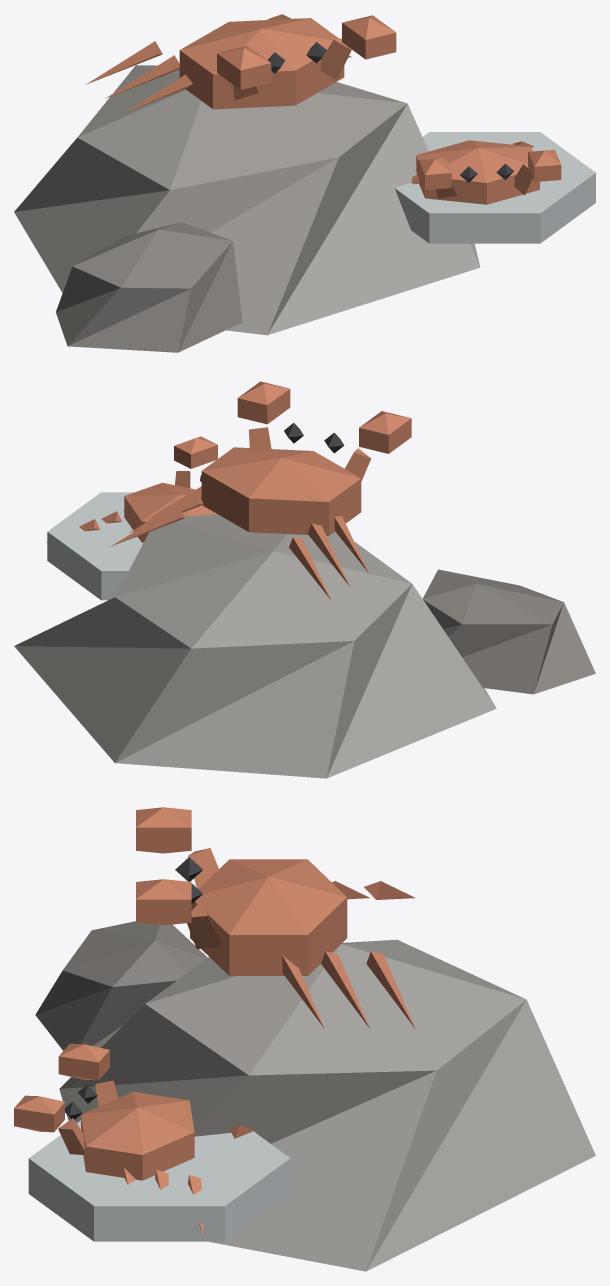
The model's file is crab.glb.
3 renders of one model, top to bottom at view 1: azimuth 30°, elevation 25°; view 2: azimuth 150°, elevation 25°; view 3: azimuth 270°, elevation 25°, orthographic. The views are drawn at different scales.
Visible parts, largest first — view 1: LOD0; view 2: LOD0; view 3: LOD0.
Boxes of the visible parts, x1,y1,x2,y2 form: LOD0: (14,14,595,352); LOD0: (14,381,595,778); LOD0: (14,807,595,1271).
Size of what is drawn, in the model's own units: 0.6624 by 0.2972 by 0.5337.
